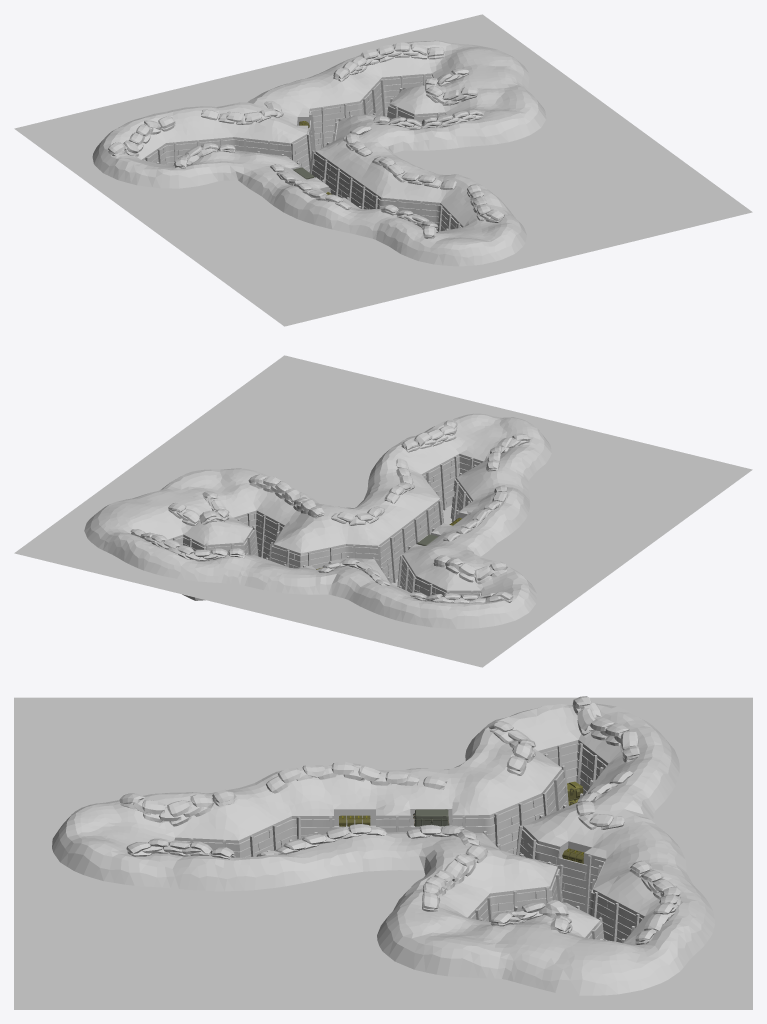
Rendered from Trench_01.fbx.
The picture shows the model from 3 angles, top to bottom: view 1: azimuth 30°, elevation 25°; view 2: azimuth 150°, elevation 25°; view 3: azimuth 270°, elevation 25°; orthographic projection. The views are drawn at different scales.
Parts seen in each view (by area): view 1: Trench_ground_01, Trenches_01; view 2: Trench_ground_01, Trenches_01; view 3: Trench_ground_01, Trenches_01, Trenches_AB_01.
Part boxes in pixels (bbox=[...]): Trench_ground_01: bbox=[14, 14, 752, 326]; Trenches_01: bbox=[92, 40, 546, 266]; Trench_ground_01: bbox=[14, 355, 752, 667]; Trenches_01: bbox=[84, 413, 551, 628]; Trench_ground_01: bbox=[14, 697, 752, 1009]; Trenches_01: bbox=[52, 696, 714, 995]; Trenches_AB_01: bbox=[339, 781, 584, 863].
Bounding box in the file's own units: 591 × 84.36 × 591.
